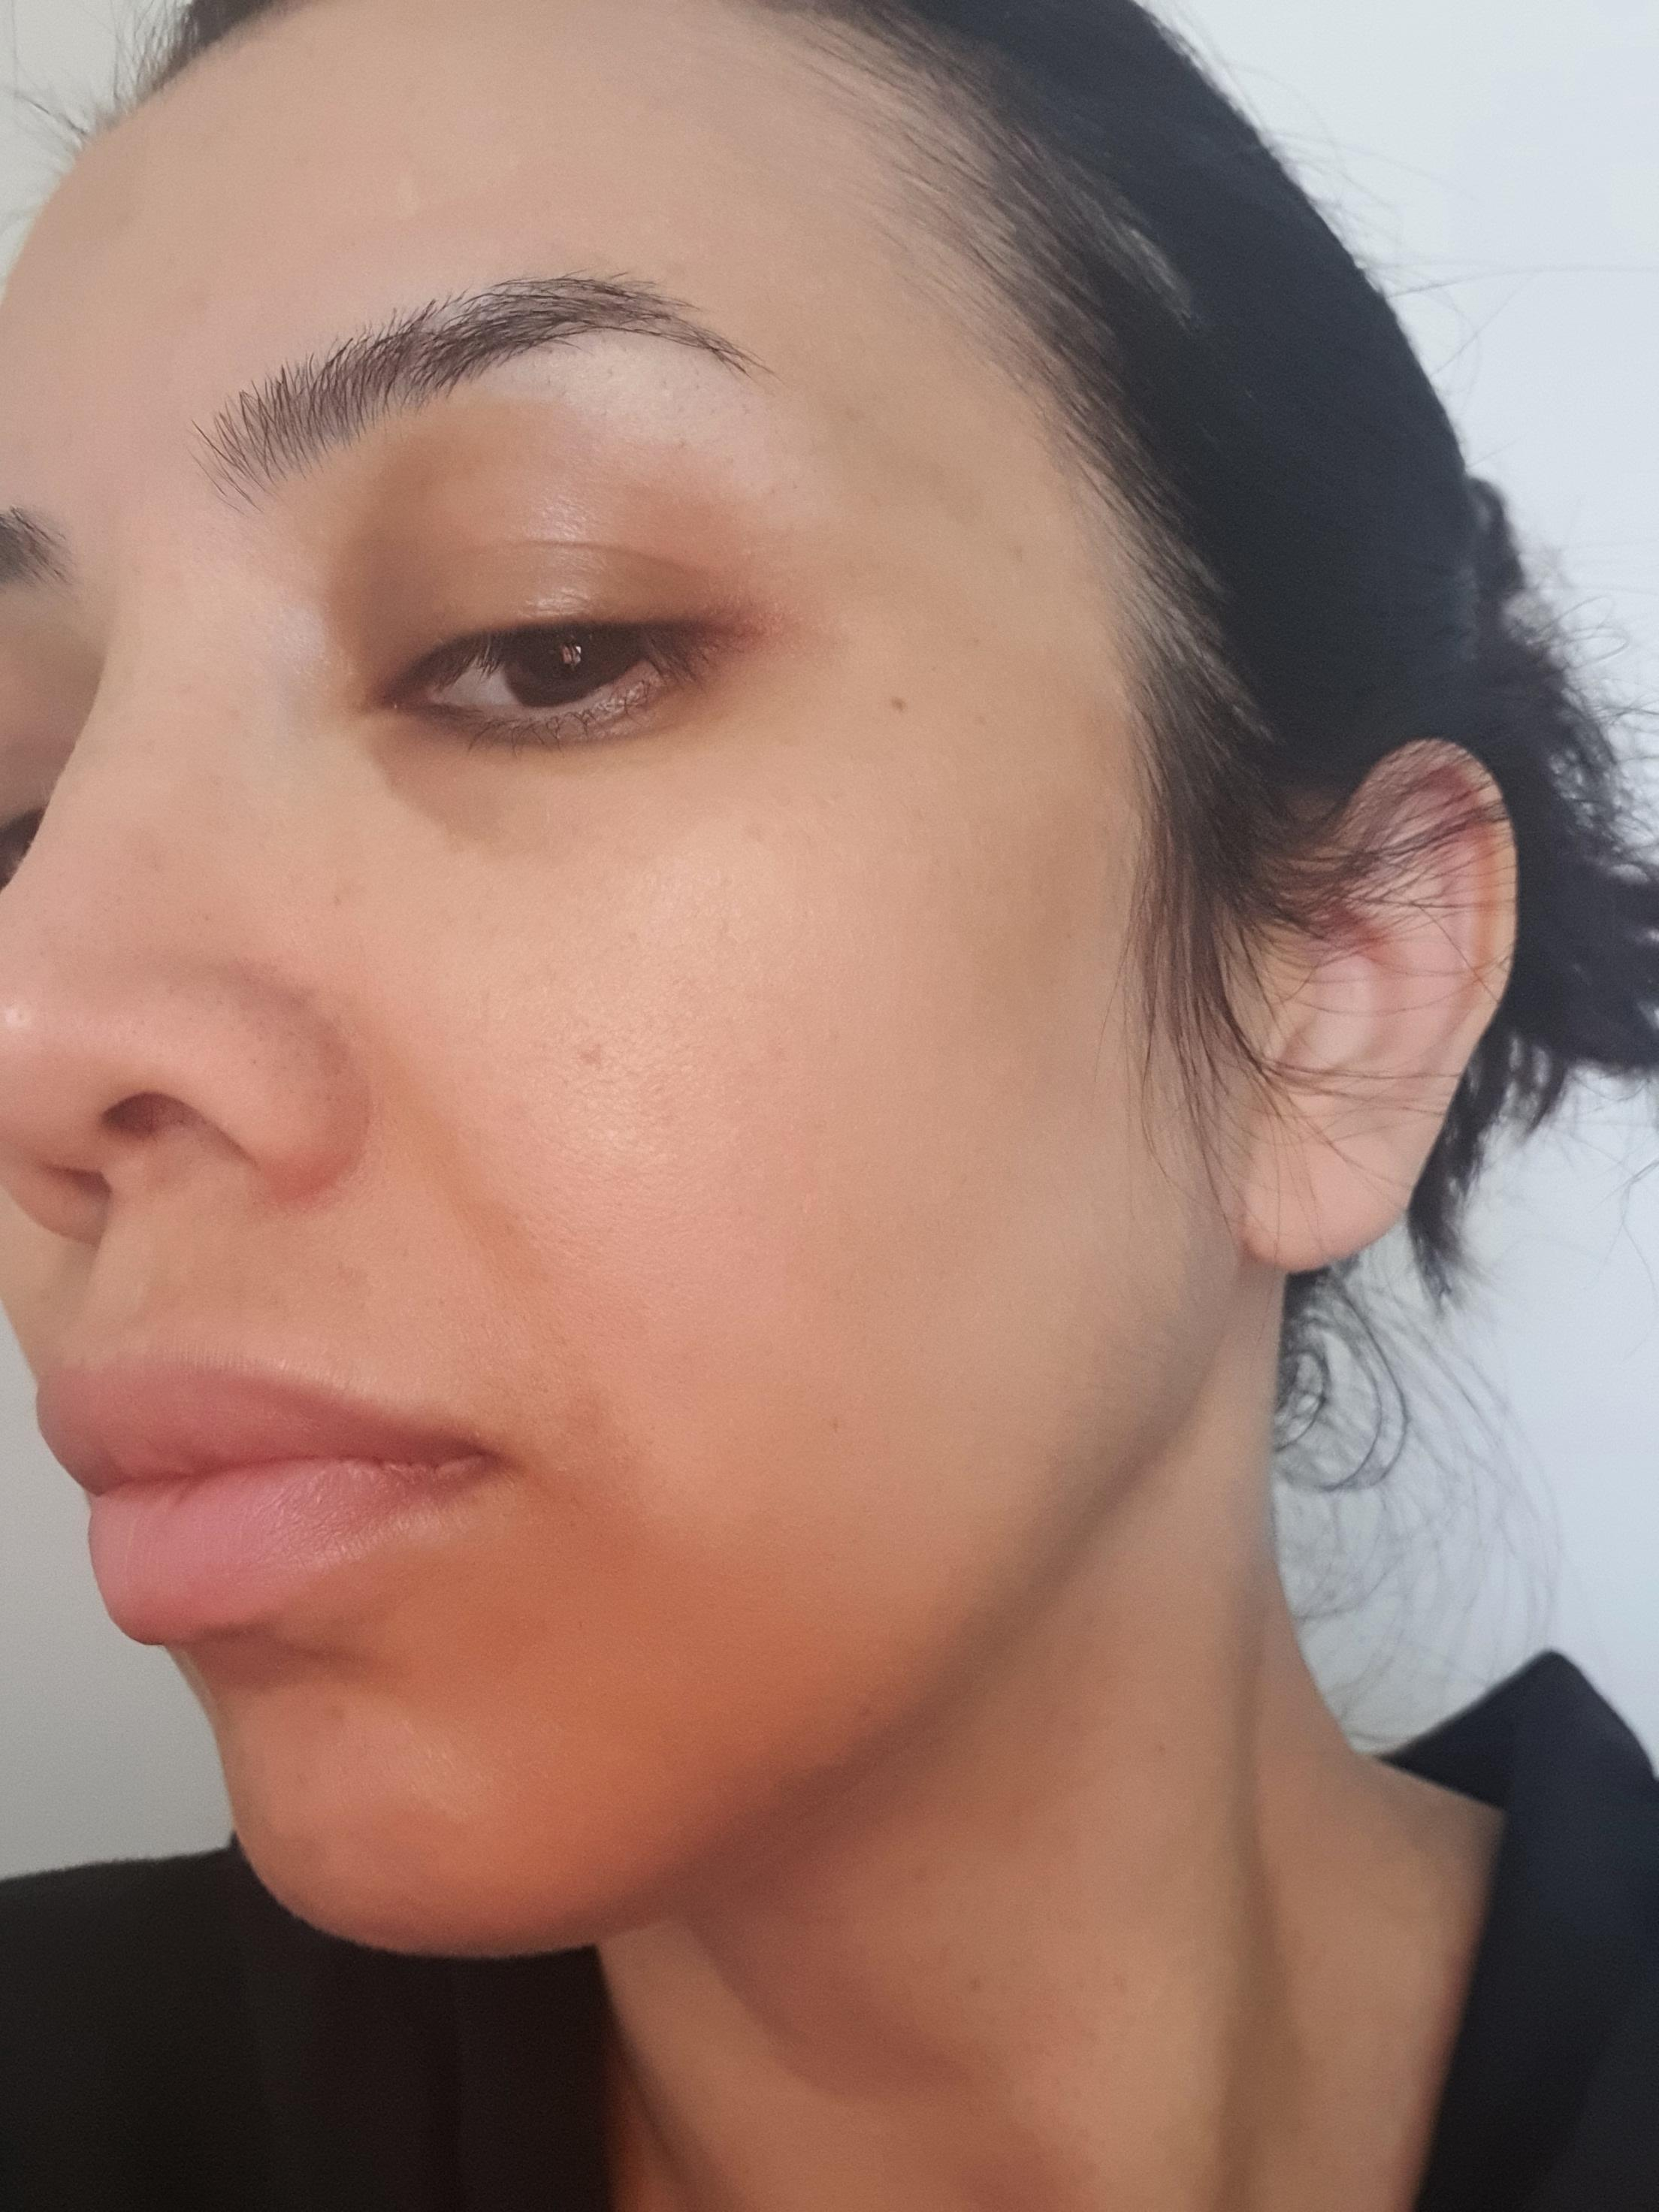Acne: (542, 1024, 612, 1101), (314, 1695, 361, 1747)
